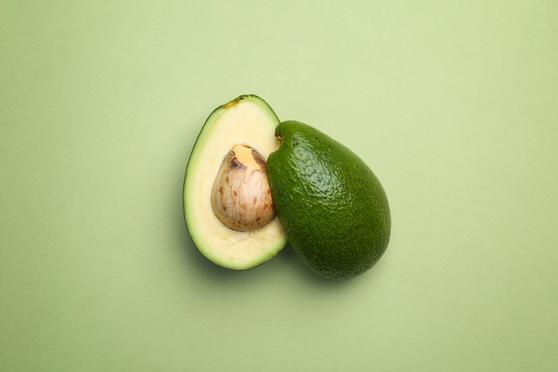avocado: (263, 116, 403, 290)
